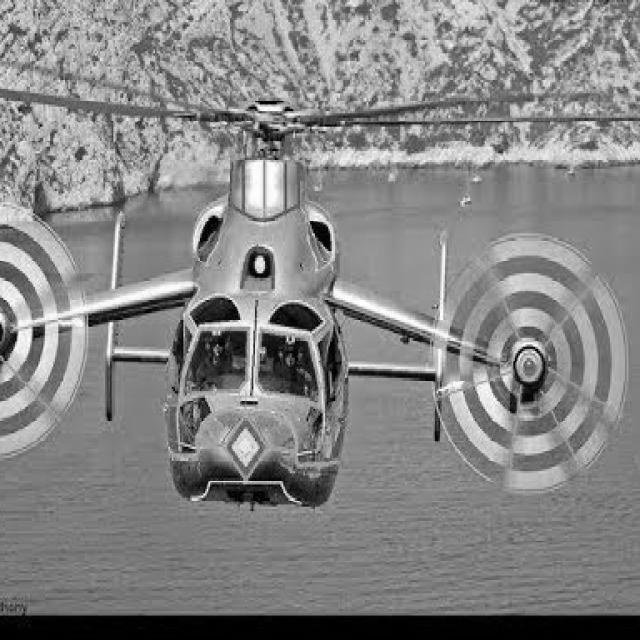helicopter: (1, 46, 640, 548)
